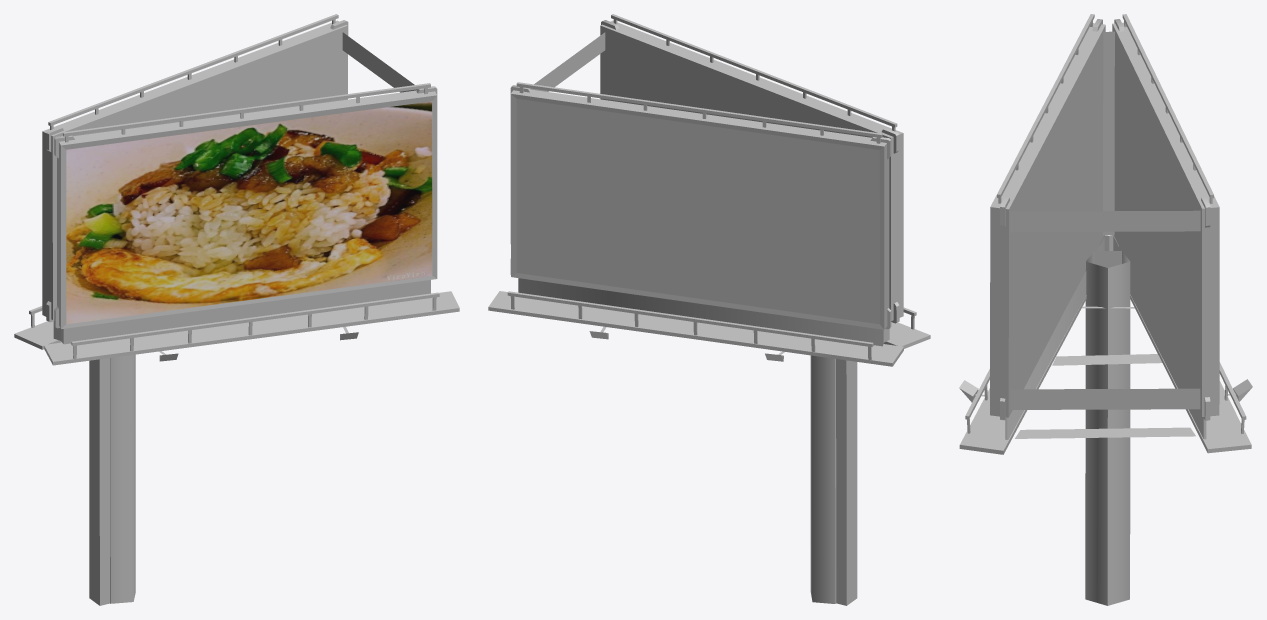
The model's file is porkRice.dae.
3 views of the same model, side by side, from view 1: azimuth 30°, elevation 25°; view 2: azimuth 150°, elevation 25°; view 3: azimuth 270°, elevation 25° (orthographic). The views are drawn at different scales.
Parts seen in each view (by area): view 1: porkRice, Base; view 2: Pic1, Base; view 3: Base.
Boxes of the visible parts, left/top/right/bottom form: porkRice: left=66, top=101, right=432, bottom=324; Base: left=14, top=14, right=459, bottom=605; Pic1: left=516, top=99, right=879, bottom=324; Base: left=488, top=14, right=930, bottom=605; Base: left=959, top=14, right=1252, bottom=605.
Size of the model in its own units: 724 by 900 by 437.
